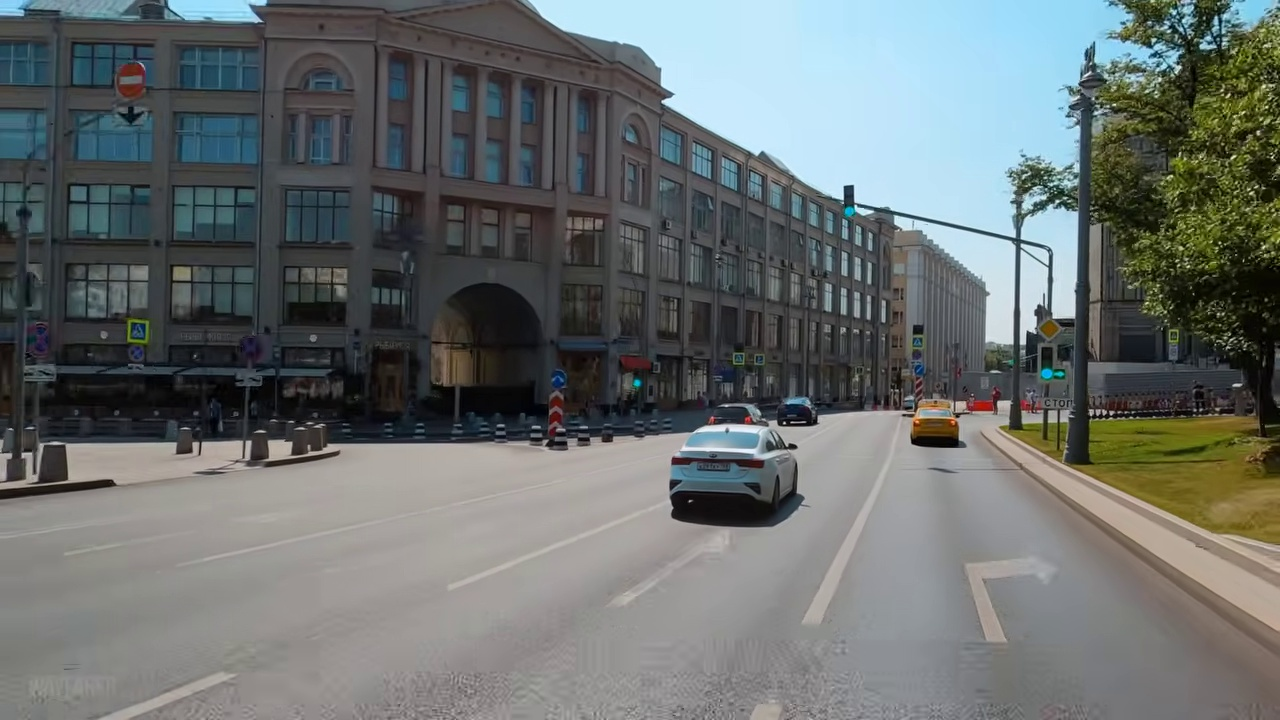apagada: (1061, 46, 1105, 120)
